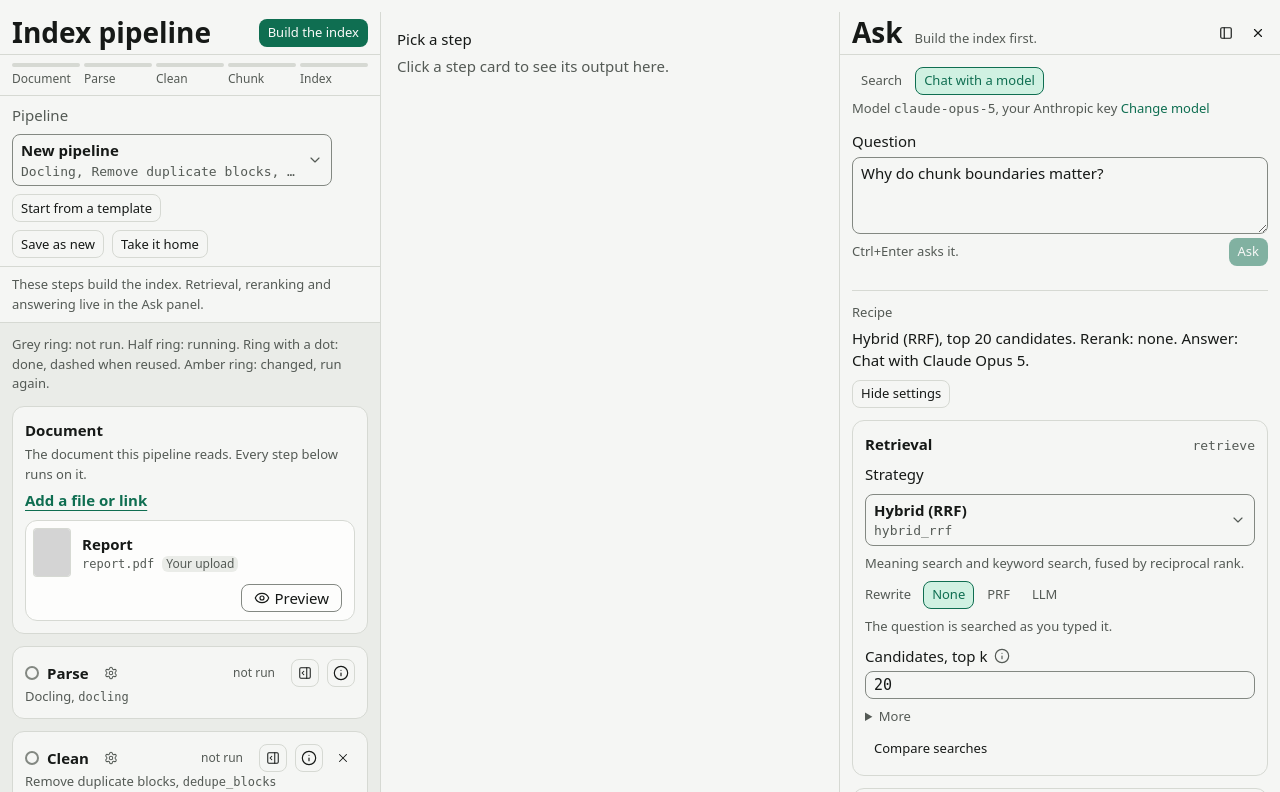
Ask with a chat card and no API key › a chat config without a model uses the default model's key
Click the button "Build the index".
click(313, 33)  # box [259,19,368,47]
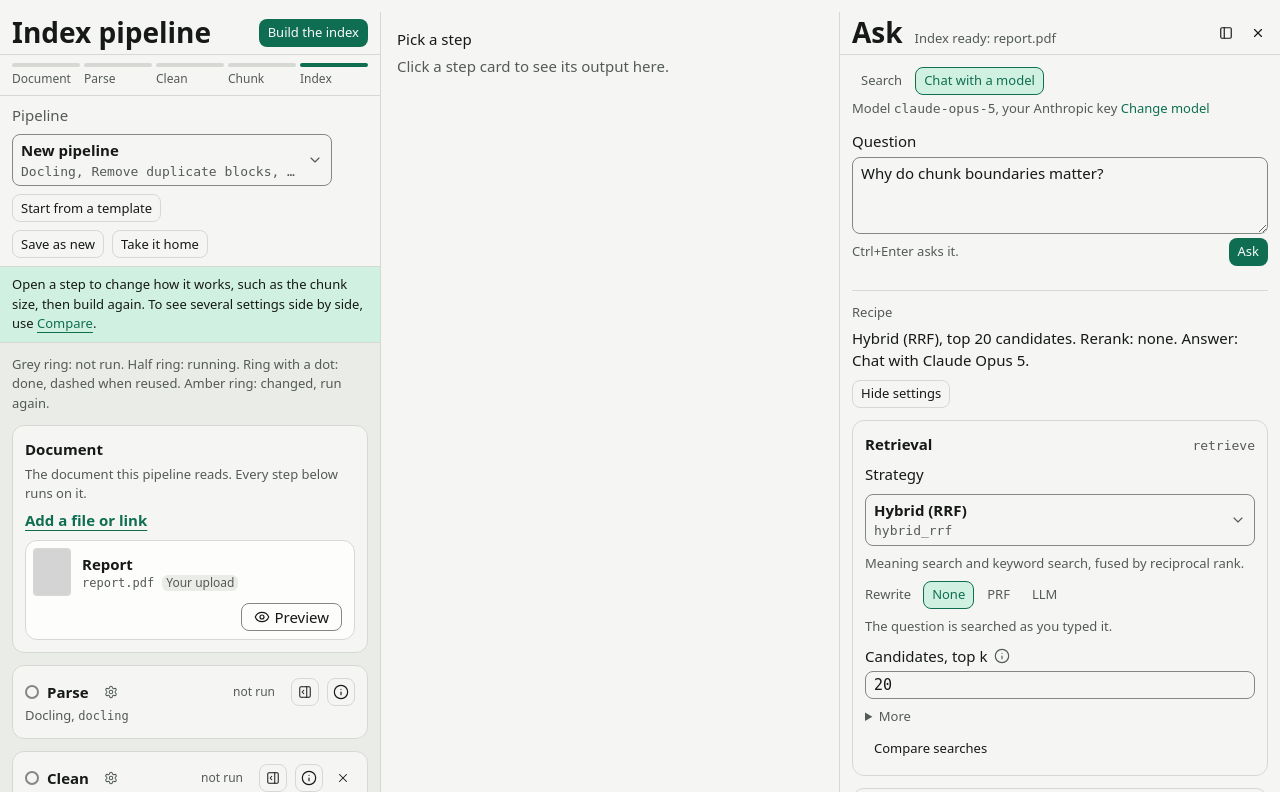
Now the button "Ask" is enabled
Click the button "Ask".
click(1248, 252)  # box [1228,238,1268,266]
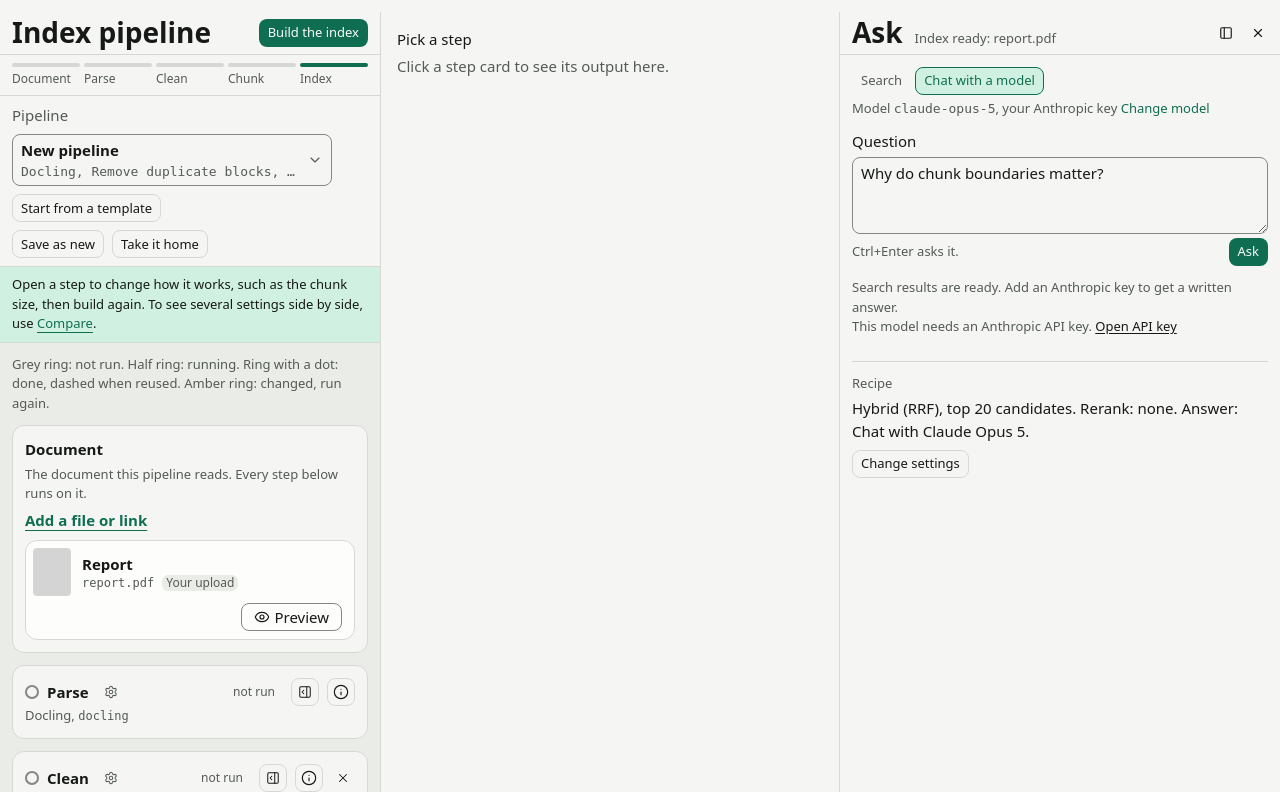
Now the message with test id "key-notice" shows "Add an Anthropic key", box [852,278,1232,316]
